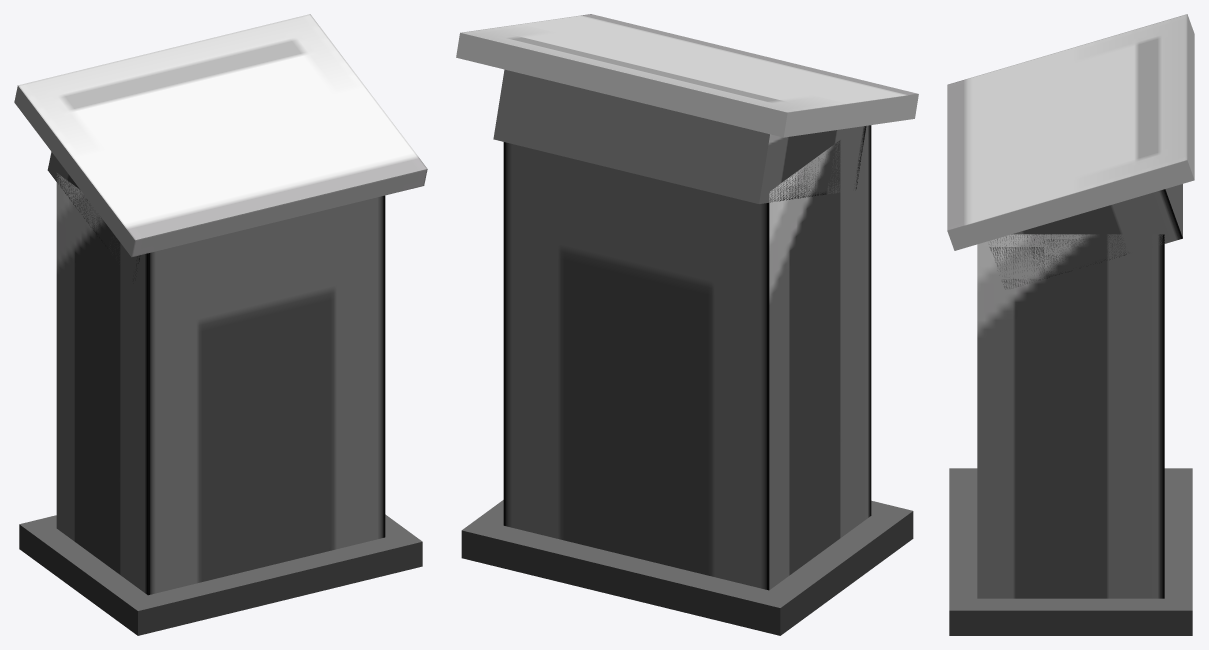
The model's file is Building_Lectern.obj.
3 views of the same model, side by side, from view 1: azimuth 30°, elevation 25°; view 2: azimuth 150°, elevation 25°; view 3: azimuth 270°, elevation 25° (orthographic). The views are drawn at different scales.
Visible parts, largest first — view 1: Body; view 2: Body; view 3: Body.
Boxes of the visible parts, x1,y1,x2,y2 form: Body: (14,14,427,635); Body: (456,14,918,635); Body: (947,14,1194,635).
Bounding box in the file's own units: 0.74 × 1.13 × 0.529.
1 material, 1 textured.
